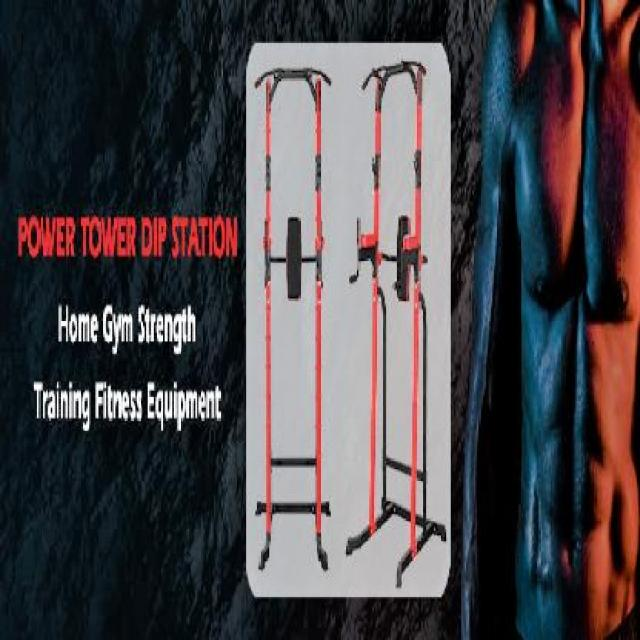chinning dipping: (346, 60, 446, 589), (254, 63, 332, 572)
